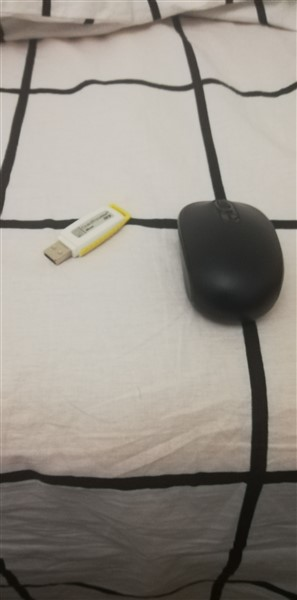flash disk: (42, 198, 133, 269)
mouse: (176, 194, 287, 327)
